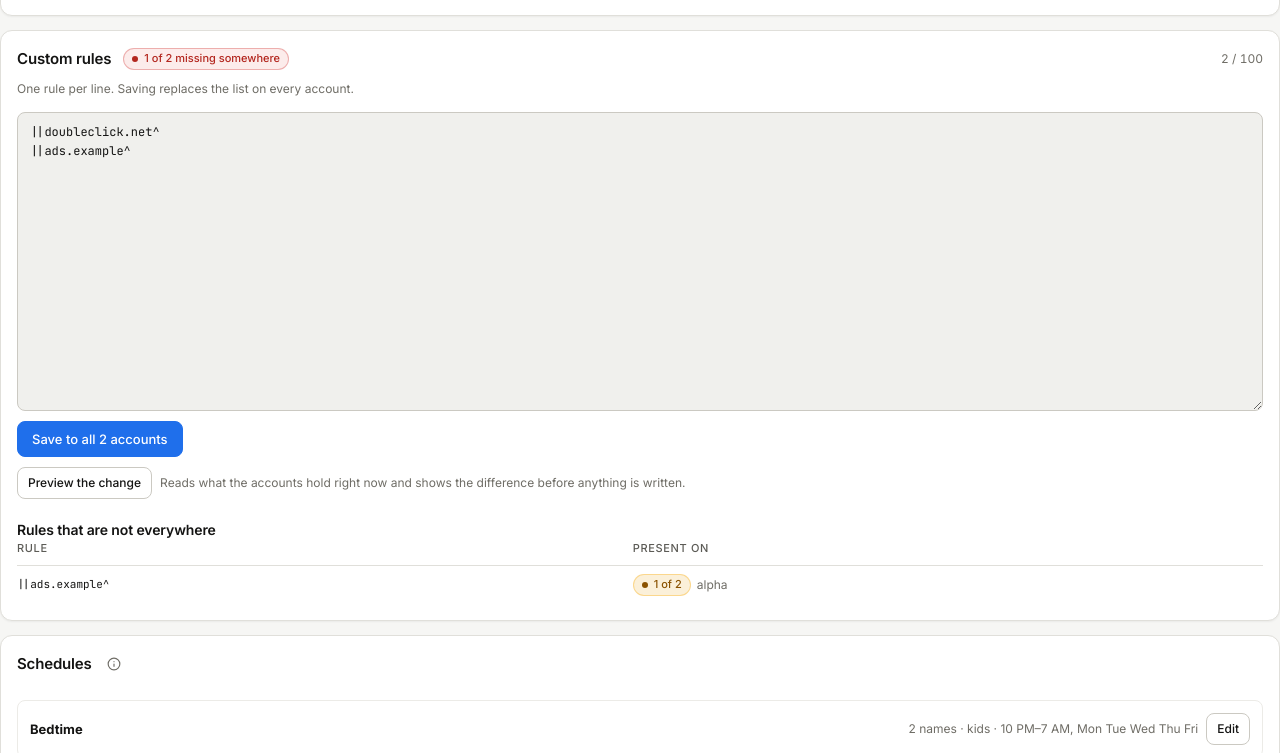
Policy › writes the whole rule list to every account
(page scrolled)
Click the button "Save to all 2 accounts" at point(100, 439), box [17, 421, 183, 457]
(page scrolled)
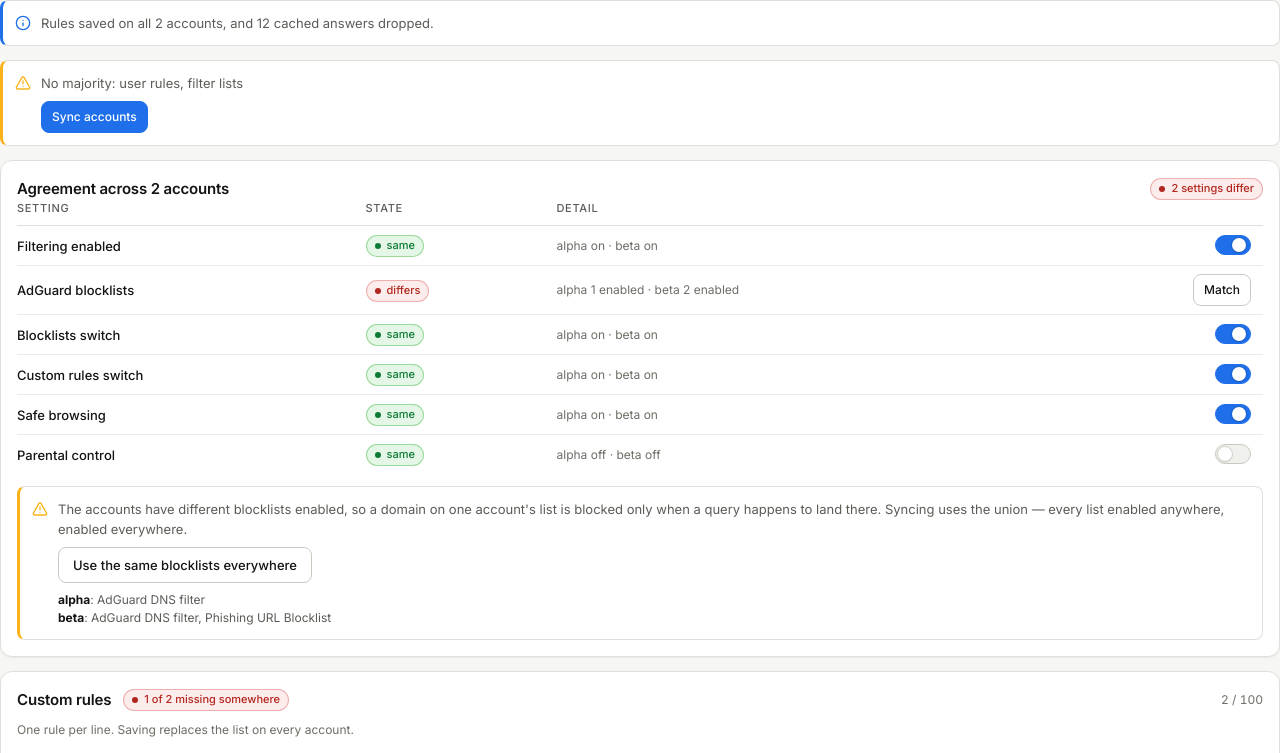
Expected: the text "Rules saved on all 2 accounts" is shown, [41, 15, 434, 31]
